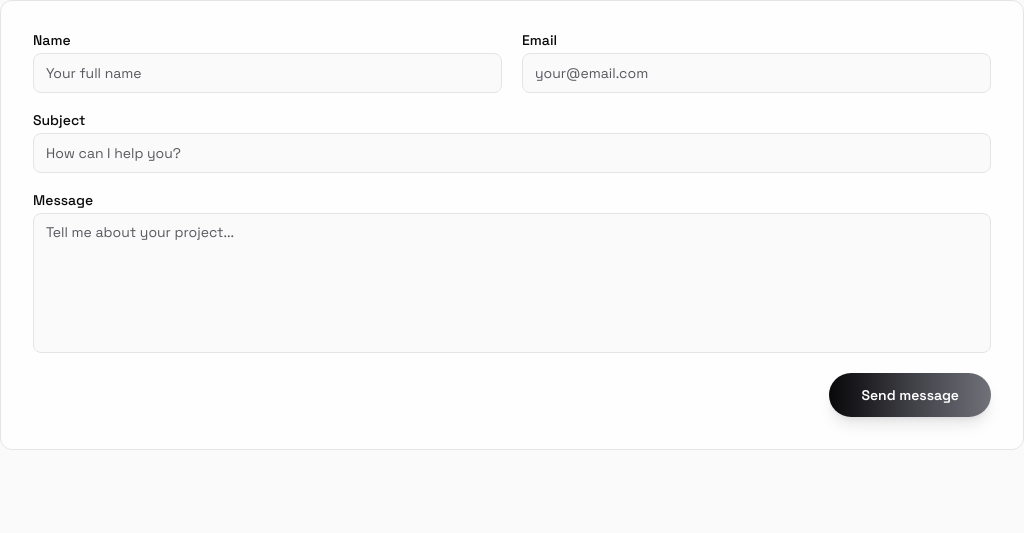
Test: ContactForm › should show validation errors on empty submit
Click the button "Send message" at (910, 395), box [830, 373, 991, 417]
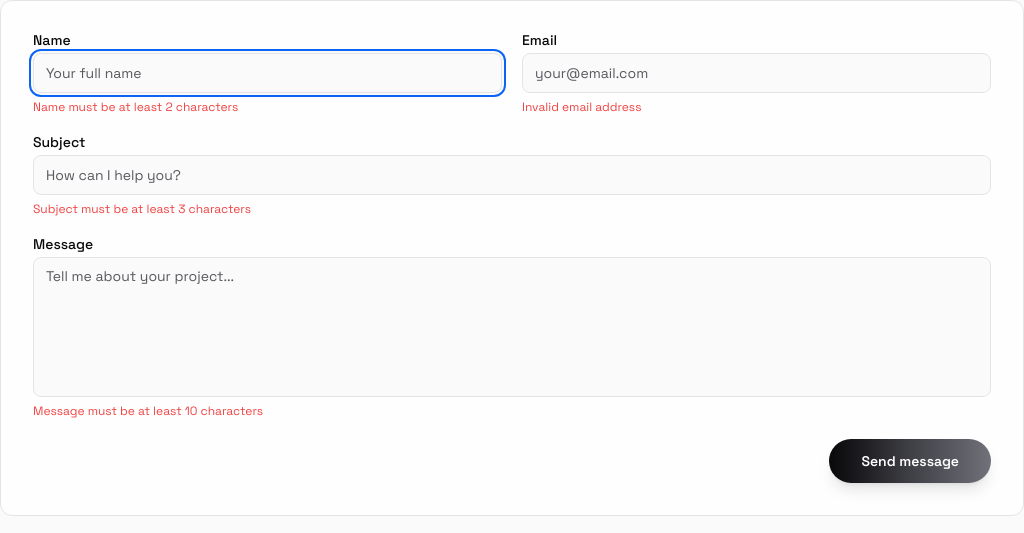
Expected: the text "Name must be at least 2 characters" is shown, [33, 99, 238, 115]
Expected: the text "Invalid email address" is shown, [522, 99, 642, 115]
Expected: the text "Subject must be at least 3 characters" is shown, [33, 201, 251, 217]
